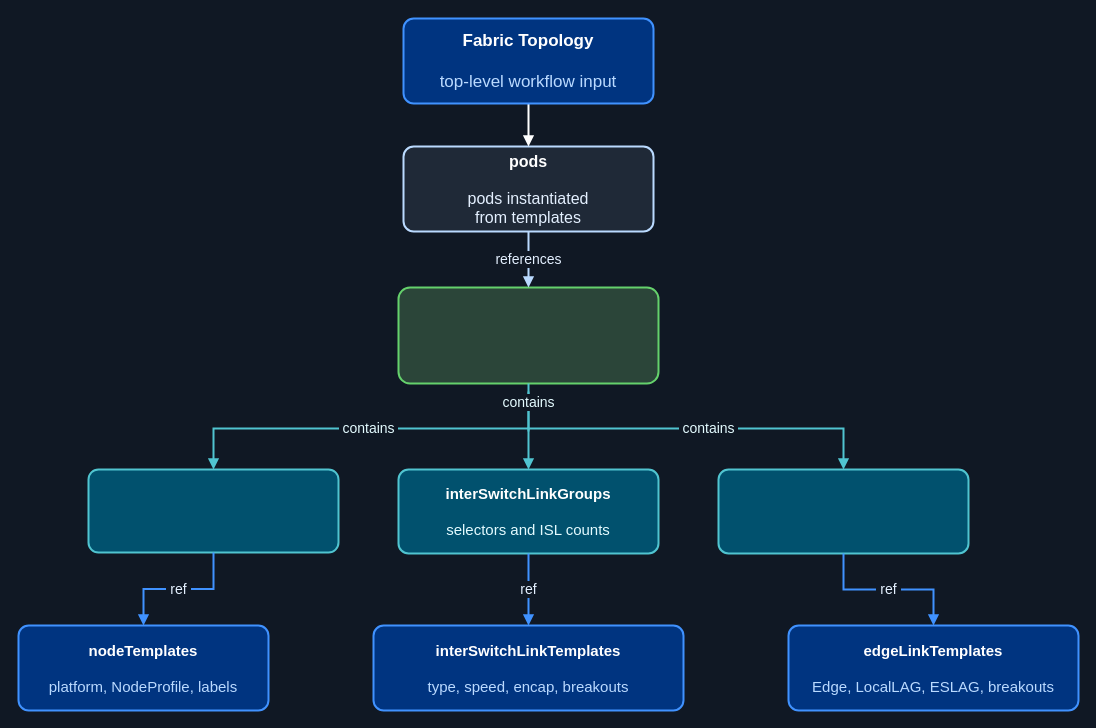
Some shapes in this 1096 by 728 pixel diagram are drawn without their labels. The shapes that lost their labels are listed below. From the top down, each one's centre as x and y in pixels, then its label:
At point (528, 335): "podTemplates reusable pod composition templates".
At point (213, 510): "nodeGroups count and node names".
At point (843, 511): "edgeLinkGroups selectors and edge counts".
